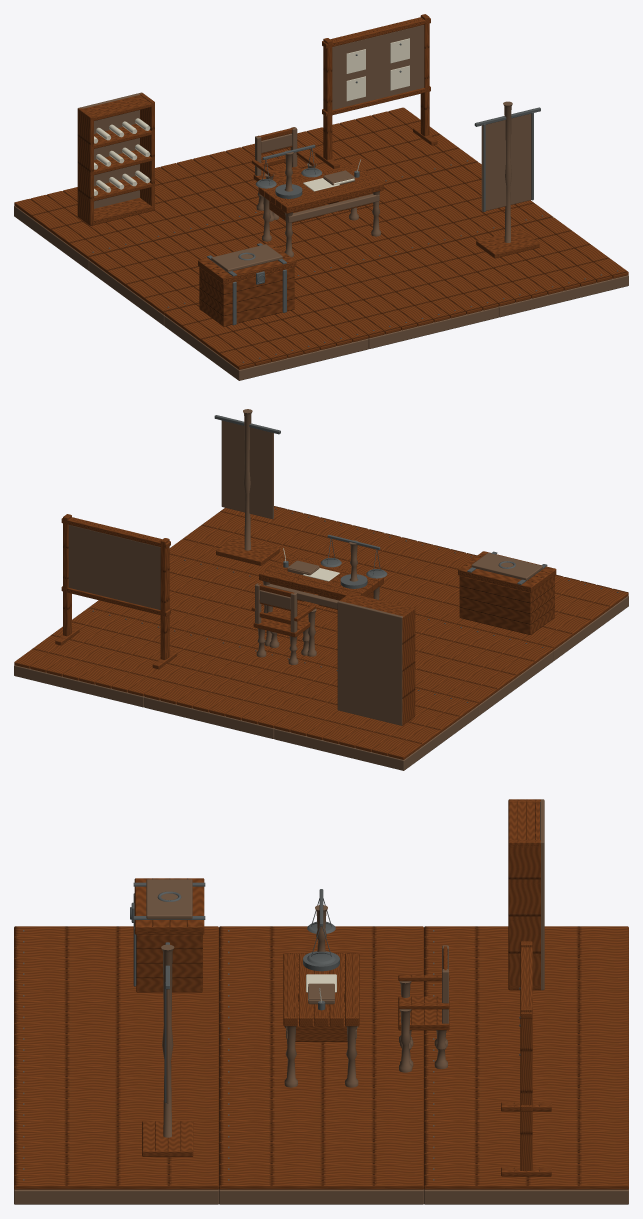
File: adventurers-tavern-and-guild-hall-guild-office-d360b678__24758.glb
3 renders of one model, top to bottom at view 1: azimuth 30°, elevation 25°; view 2: azimuth 150°, elevation 25°; view 3: azimuth 270°, elevation 25°, orthographic. The views are drawn at different scales.
Visible parts, largest first — view 1: 005-floor-tile/1, 008-floor-tile/1, 007-floor-tile/1, 002-floor-tile/1, 006-floor-tile/1, 004-floor-tile/1, 000-floor-tile/1, 001-floor-tile/1, 011-contract-scroll-rack/0, 003-floor-tile/1, 012-quest-board/0, 016-banner-stand/3 (+20 smaller); view 2: 003-floor-tile/1, 006-floor-tile/1, 001-floor-tile/1, 011-contract-scroll-rack/1, 000-floor-tile/1, 008-floor-tile/1, 007-floor-tile/1, 005-floor-tile/1, 012-quest-board/0, 002-floor-tile/1, 016-banner-stand/3, 013-reward-chest/0 (+17 smaller); view 3: 007-floor-tile/1, 005-floor-tile/1, 006-floor-tile/1, 008-floor-tile/1, 003-floor-tile/1, 000-floor-tile/1, 004-floor-tile/1, 002-floor-tile/1, 001-floor-tile/1, 011-contract-scroll-rack/0, 009-registry-desk/1, 012-quest-board/1 (+14 smaller).
Part boxes in pixels (x1,y1,x2,y2): 005-floor-tile/1: [294, 249, 498, 338]; 008-floor-tile/1: [424, 217, 628, 306]; 007-floor-tile/1: [365, 162, 553, 249]; 002-floor-tile/1: [164, 282, 368, 369]; 006-floor-tile/1: [286, 107, 478, 185]; 004-floor-tile/1: [219, 204, 422, 280]; 000-floor-tile/1: [14, 179, 217, 259]; 001-floor-tile/1: [89, 226, 248, 314]; 011-contract-scroll-rack/0: [77, 93, 154, 225]; 003-floor-tile/1: [155, 143, 307, 225]; 012-quest-board/0: [332, 25, 424, 109]; 016-banner-stand/3: [481, 113, 531, 211]; 003-floor-tile/1: [144, 639, 337, 728]; 006-floor-tile/1: [14, 607, 218, 696]; 001-floor-tile/1: [415, 616, 553, 704]; 011-contract-scroll-rack/1: [337, 601, 402, 725]; 000-floor-tile/1: [274, 679, 478, 759]; 008-floor-tile/1: [169, 506, 368, 575]; 007-floor-tile/1: [89, 554, 264, 639]; 005-floor-tile/1: [330, 529, 476, 615]; 012-quest-board/0: [68, 525, 160, 609]; 002-floor-tile/1: [425, 574, 628, 649]; 016-banner-stand/3: [221, 420, 273, 519]; 013-reward-chest/0: [459, 575, 554, 634]; 007-floor-tile/1: [219, 1099, 423, 1189]; 005-floor-tile/1: [14, 1013, 218, 1099]; 006-floor-tile/1: [424, 1099, 628, 1189]; 008-floor-tile/1: [14, 1099, 218, 1189]; 003-floor-tile/1: [424, 1013, 628, 1099]; 000-floor-tile/1: [424, 926, 628, 1013]; 004-floor-tile/1: [219, 1013, 423, 1099]; 002-floor-tile/1: [14, 926, 218, 1013]; 001-floor-tile/1: [219, 926, 423, 1013]; 011-contract-scroll-rack/0: [508, 799, 540, 990]; 009-registry-desk/1: [283, 953, 359, 1041]; 012-quest-board/1: [501, 941, 551, 1176].
Size of the model in its own units: 6 by 2.31 by 6.
Materials: 4 (1 with a texture image).
